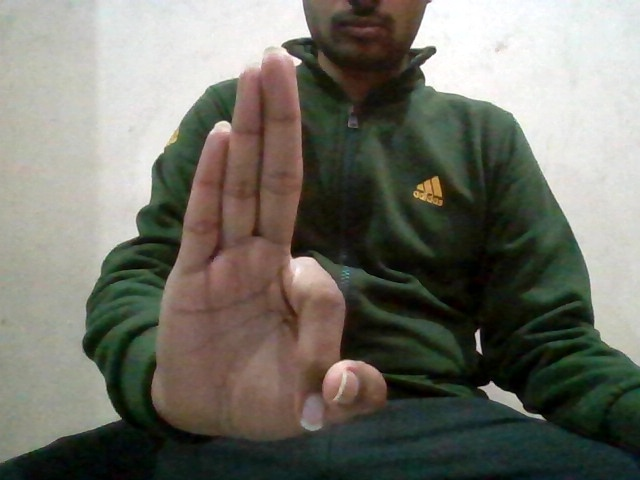F: (157, 46, 389, 439)
